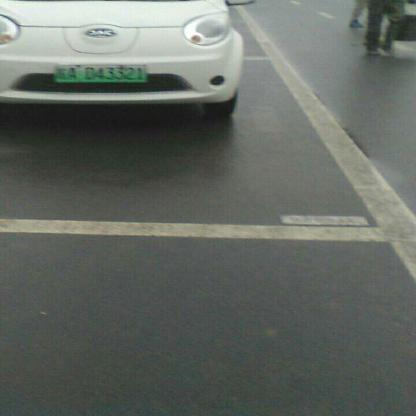lp: (55, 64, 145, 81)
